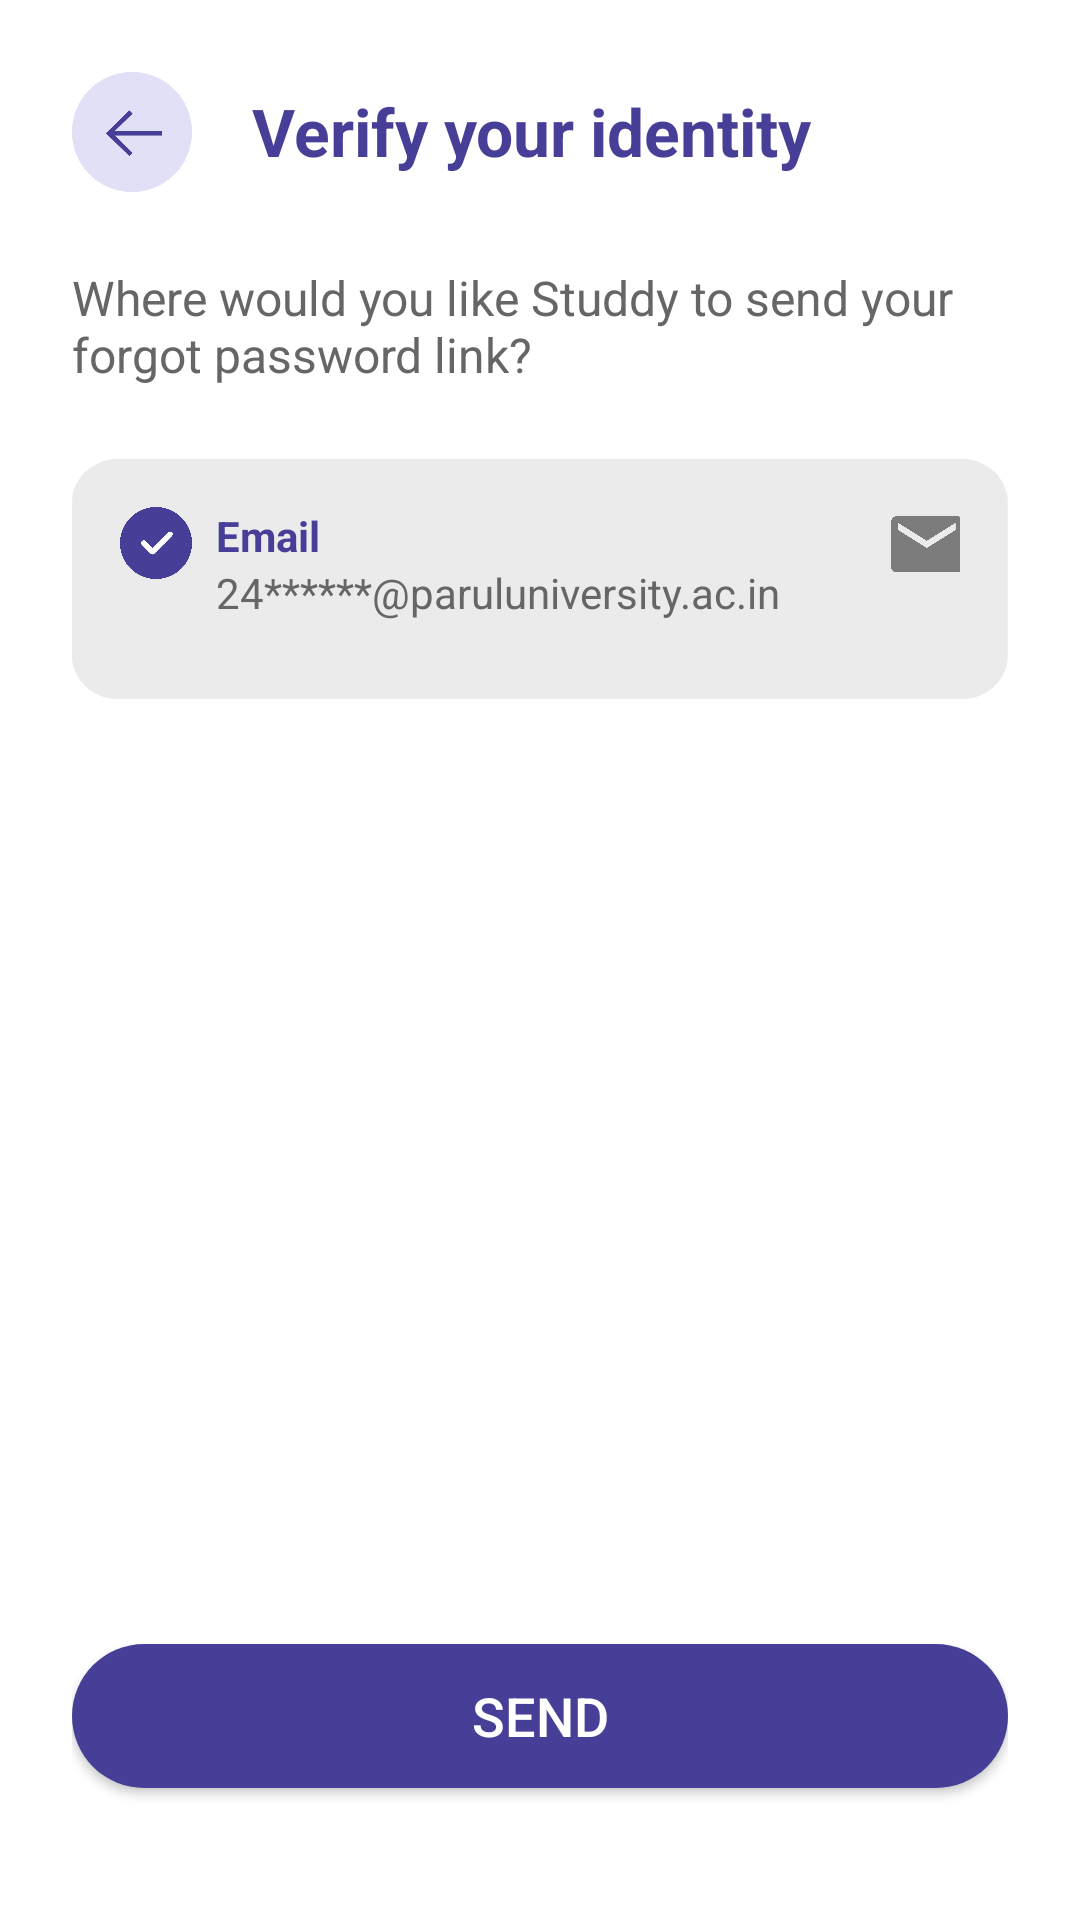

Screen size 1080x1920. Icon name, then its box in pixels as (x1, y1, x2, y2):
Back Button: (72, 72, 192, 192)
check circle: (120, 507, 192, 579)
email: (891, 516, 960, 572)
